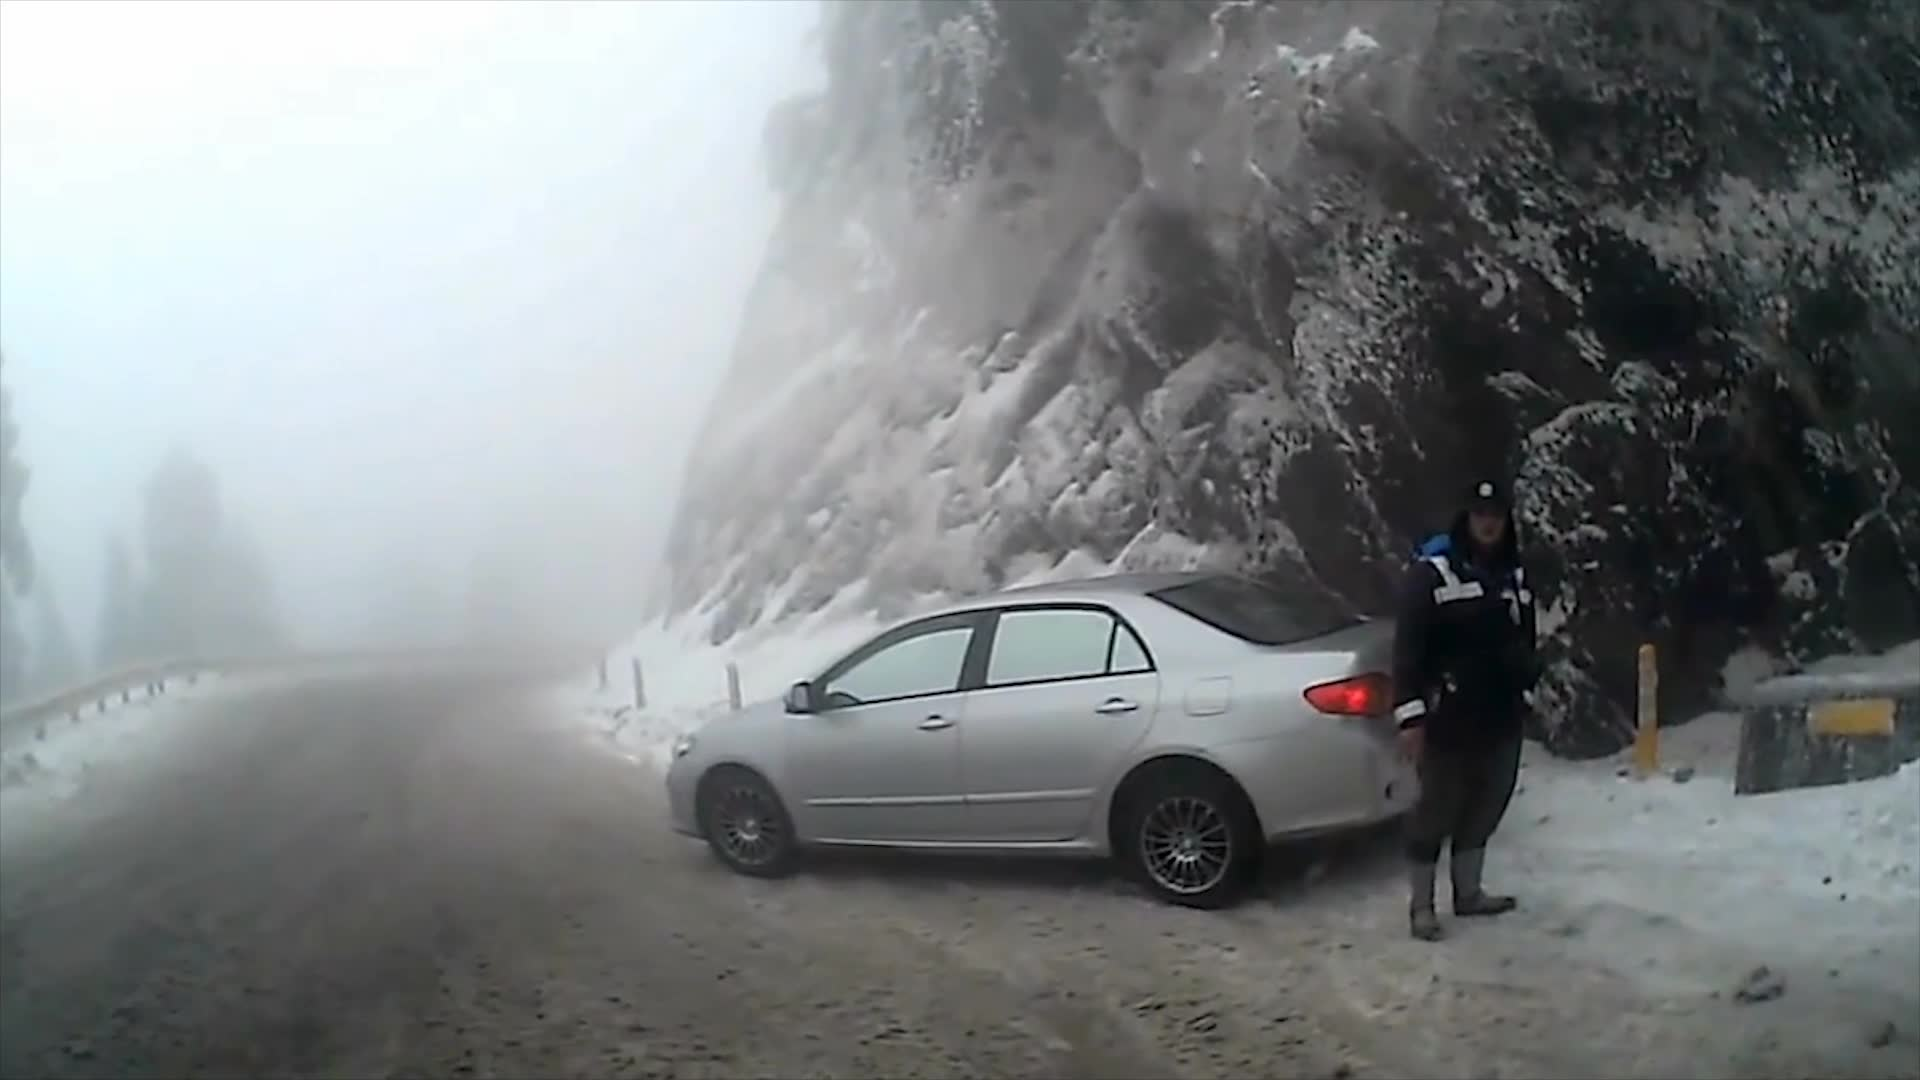pedestrian: (1387, 481, 1542, 947)
vehicle: (663, 574, 1491, 912)
